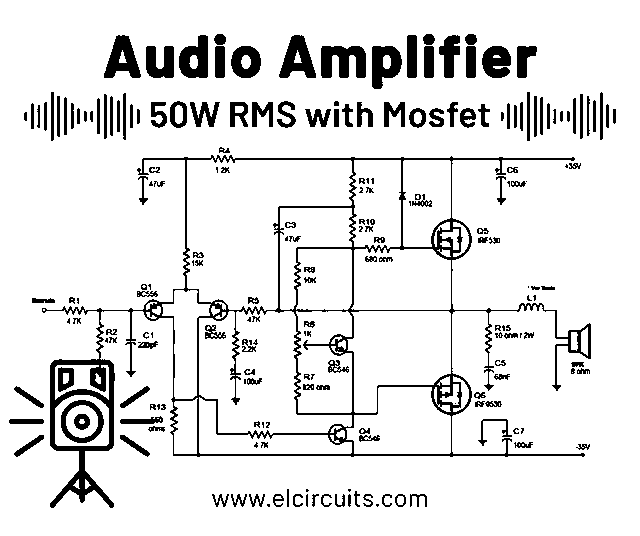C: (126, 163, 158, 185), (487, 167, 512, 192), (226, 365, 247, 387), (118, 331, 138, 351)
Q: (424, 212, 477, 270), (429, 365, 476, 422), (327, 325, 356, 359), (205, 292, 233, 324), (139, 299, 170, 325)
R: (200, 141, 246, 177), (178, 239, 203, 282), (237, 299, 268, 324), (289, 256, 308, 294), (362, 239, 393, 262), (60, 299, 91, 320), (345, 166, 363, 201), (344, 210, 363, 243)
